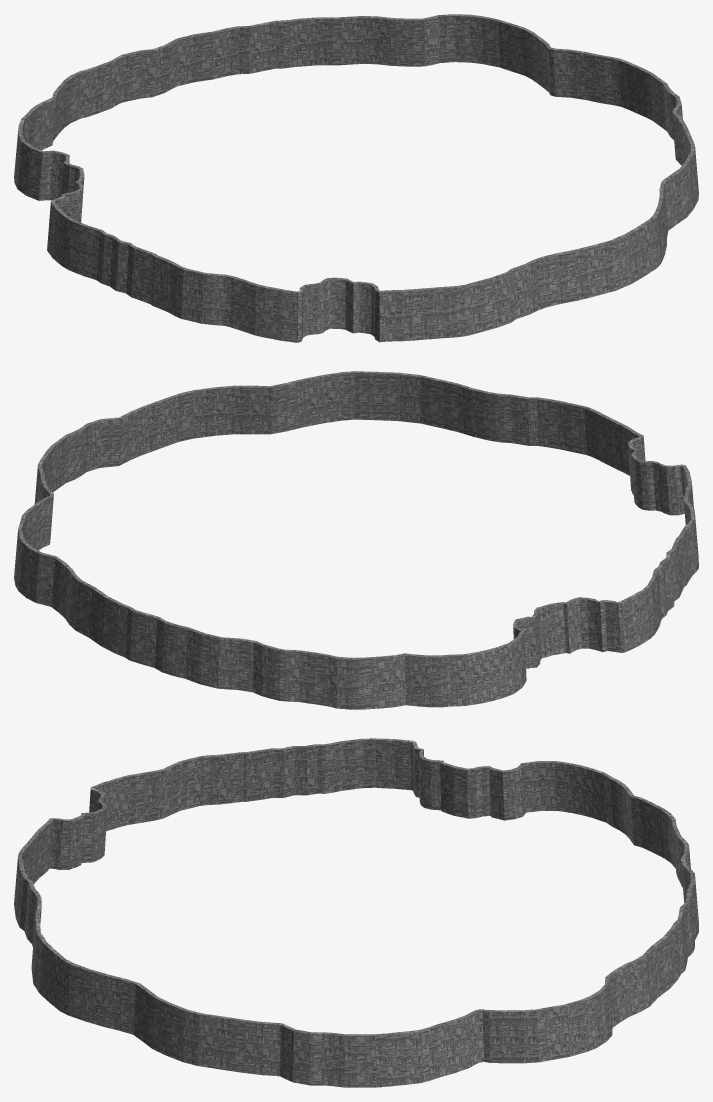
File: FreeRoamBorder.fbx
3 renders of one model, top to bottom at view 1: azimuth 30°, elevation 25°; view 2: azimuth 150°, elevation 25°; view 3: azimuth 270°, elevation 25°, orthographic. The views are drawn at different scales.
Visible parts, largest first — view 1: FreeRoamBorder; view 2: FreeRoamBorder; view 3: FreeRoamBorder.
Boxes of the visible parts, bbox=[...] form: FreeRoamBorder: bbox=[14, 14, 698, 342]; FreeRoamBorder: bbox=[14, 371, 698, 709]; FreeRoamBorder: bbox=[14, 738, 698, 1087].
Bounding box in the file's own units: 8488 × 653 × 8156.
Materials: 1 (1 with a texture image).
